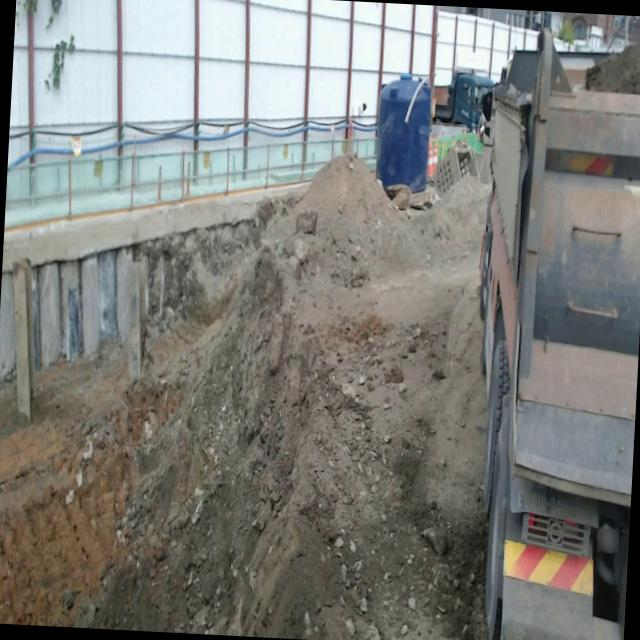red-sand: (0, 162, 488, 640), (585, 45, 640, 94)
